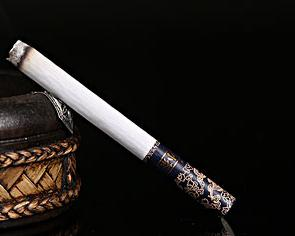smoke: (5, 37, 236, 216)
